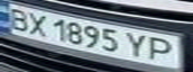1: (45, 16, 69, 43)
5: (100, 25, 124, 55)
8: (63, 19, 84, 46)
9: (81, 22, 103, 51)
B: (3, 6, 33, 31)
P: (145, 34, 184, 63)
X: (24, 11, 51, 37)
Y: (121, 30, 154, 61)
